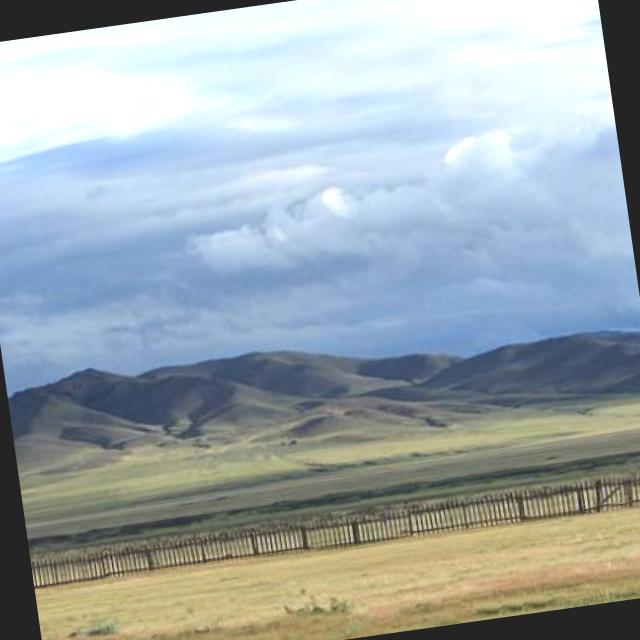nimbostratus: (0, 11, 633, 374)
